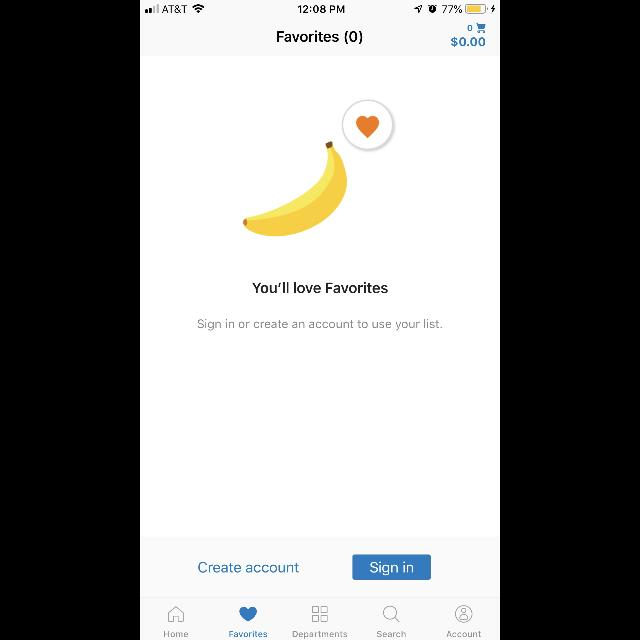icon: (382, 606, 400, 622), (168, 606, 184, 622), (240, 606, 256, 622), (312, 606, 328, 622), (456, 606, 472, 622), (476, 22, 486, 34)
image: (243, 99, 395, 237)
text: (198, 320, 442, 330), (252, 282, 388, 294), (278, 31, 362, 45), (199, 562, 299, 572), (292, 631, 348, 639), (451, 36, 485, 48), (229, 630, 267, 638), (377, 630, 405, 638), (446, 631, 482, 637), (165, 631, 189, 637), (468, 25, 472, 31)
textbutton: (353, 554, 431, 580)
uppertaskbar: (140, 0, 500, 14)
